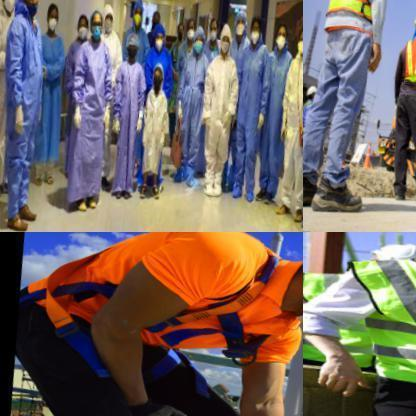vest: (58, 232, 300, 372), (325, 241, 415, 414), (0, 16, 60, 204), (52, 44, 120, 200), (216, 44, 275, 193), (244, 51, 296, 198), (186, 55, 243, 188), (97, 61, 151, 191), (22, 32, 73, 166), (262, 53, 302, 217), (162, 52, 213, 175), (49, 40, 83, 168), (0, 12, 22, 174), (132, 91, 172, 171), (317, 0, 393, 31), (288, 68, 302, 227), (93, 33, 124, 90), (391, 32, 415, 96), (139, 54, 174, 92), (303, 97, 313, 140)
